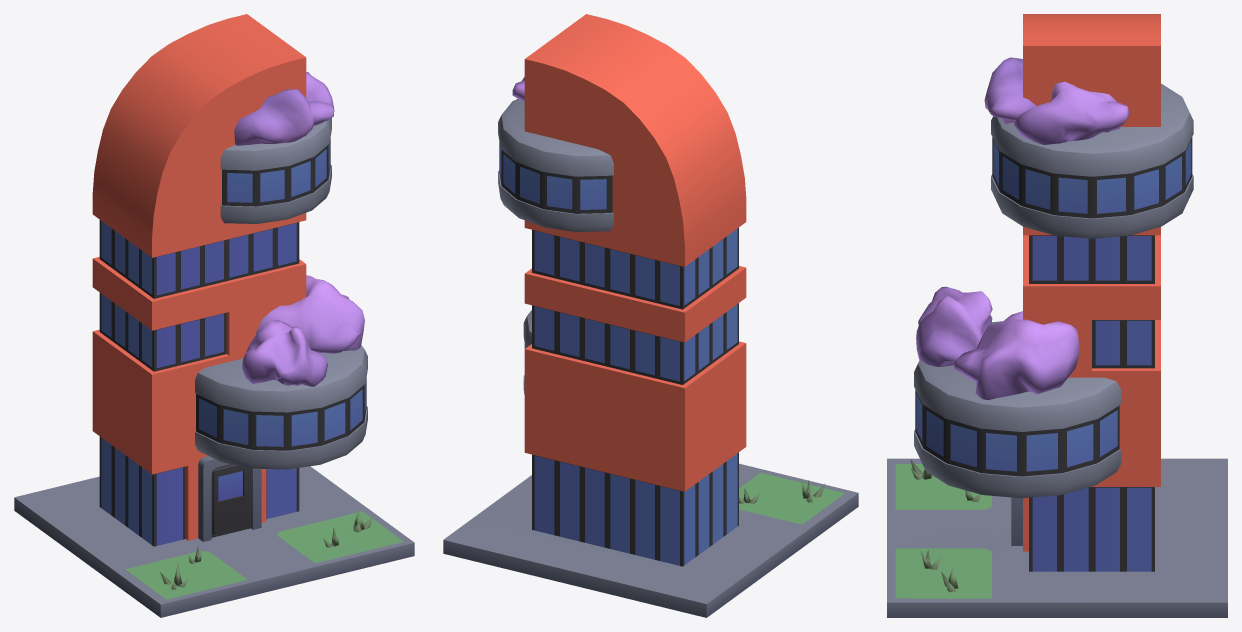
File: building-small-c.glb
3 views of the same model, side by side, from view 1: azimuth 30°, elevation 25°; view 2: azimuth 150°, elevation 25°; view 3: azimuth 270°, elevation 25° (orthographic). The views are drawn at different scales.
Parts seen in each view (by area): view 1: building-small-c; view 2: building-small-c; view 3: building-small-c.
Boxes of the visible parts, x1,y1,x2,y2 form: building-small-c: (14,14,414,617); building-small-c: (443,14,858,617); building-small-c: (887,14,1227,617).
Size of the model in its own units: 1 by 1.76 by 1.
1 material, 1 textured.
